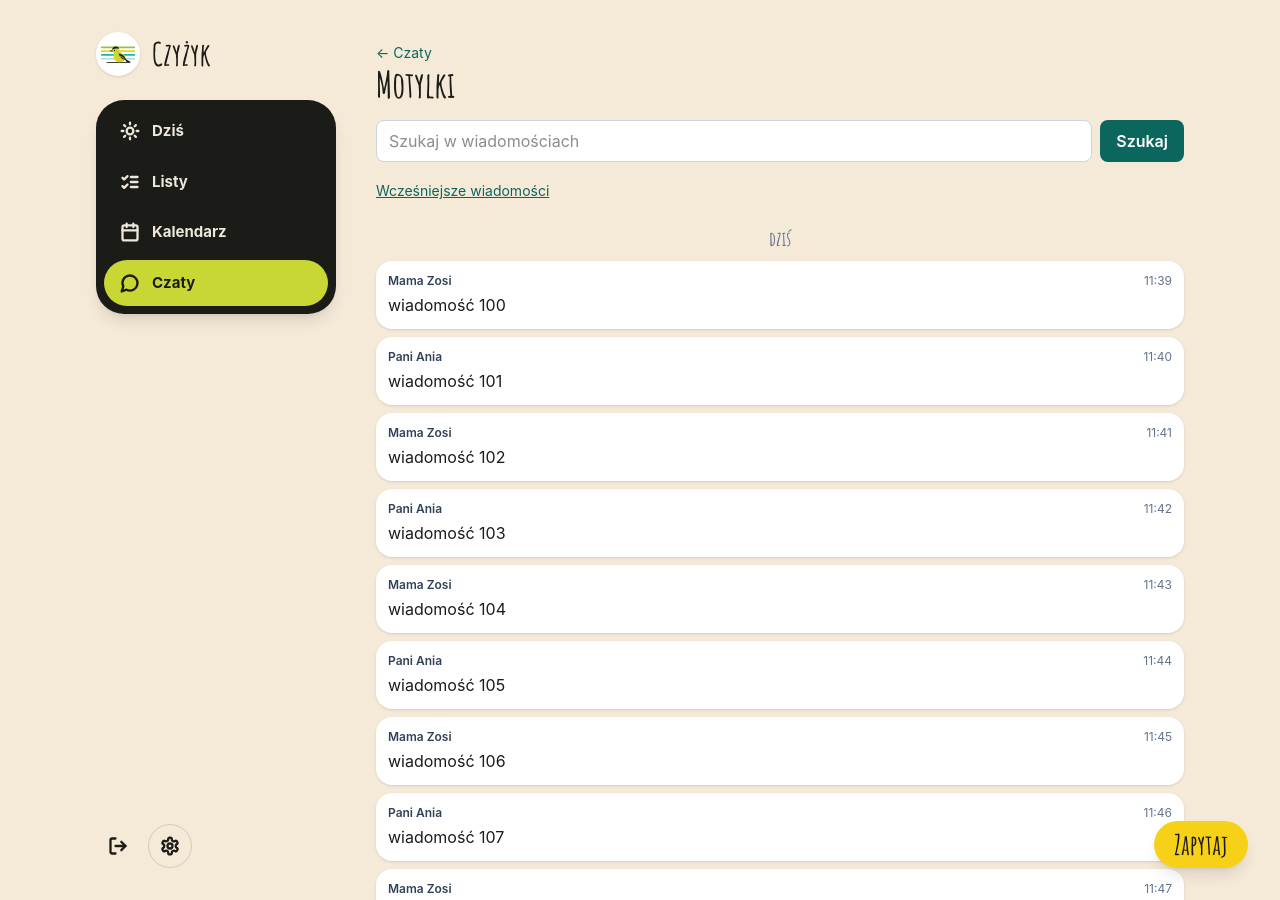
Czaty › wyszukuje w treści bez rozróżniania wielkości liter, tylko w tej grupie
This screenshot has width=1280, height=900.
Expected: the heading "Motylki" is shown, [376,61,455,107]
Type "wycieczk" into the search field labelled "Szukaj w wiadomościach" at (734, 141), box [376,120,1092,162]
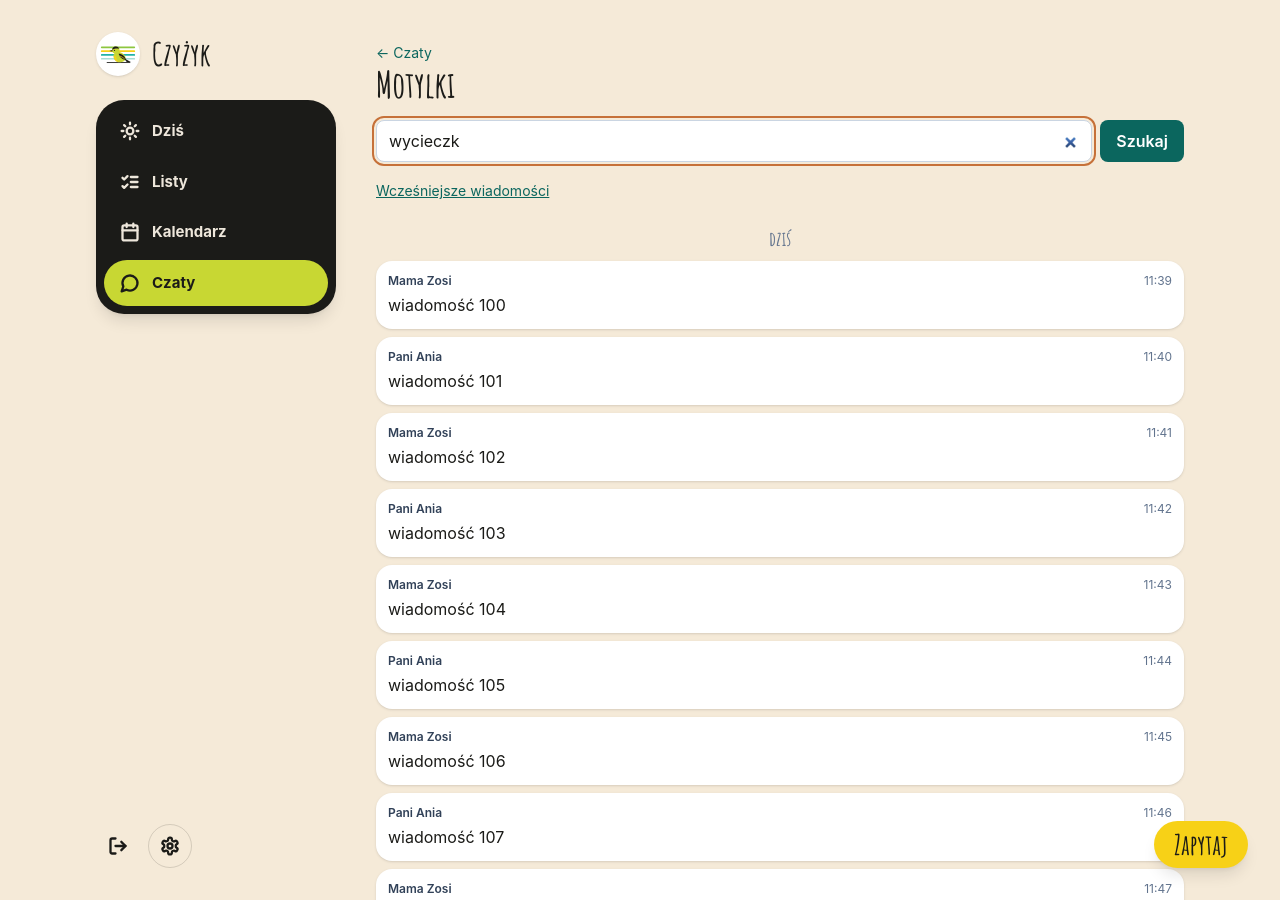
Click the button "Szukaj" at (1142, 141), box [1100,120,1184,162]
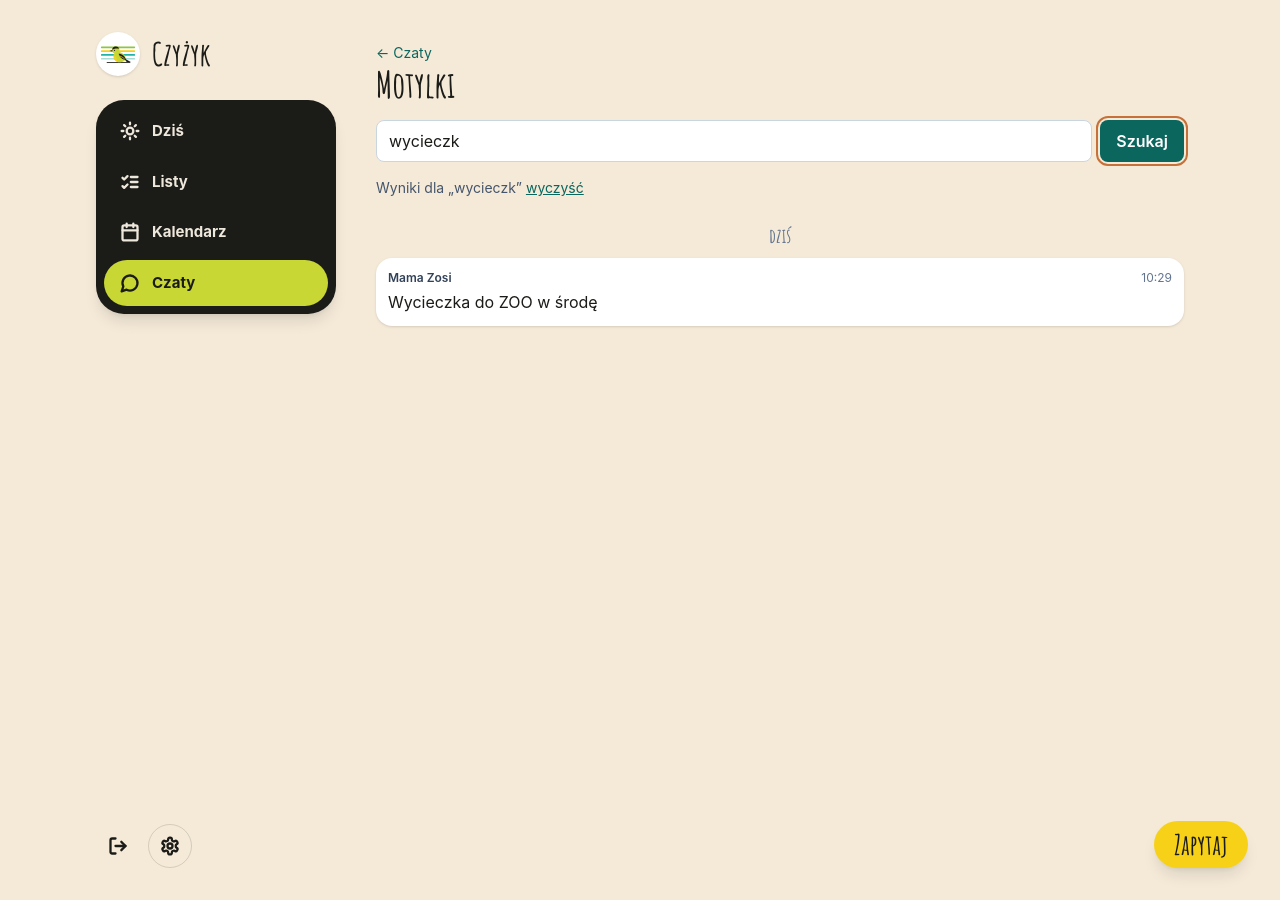
Now the text "Wycieczka do ZOO w środę" is shown, box [388,292,598,312]
Now the button "Wcześniejsze wiadomości" is gone
